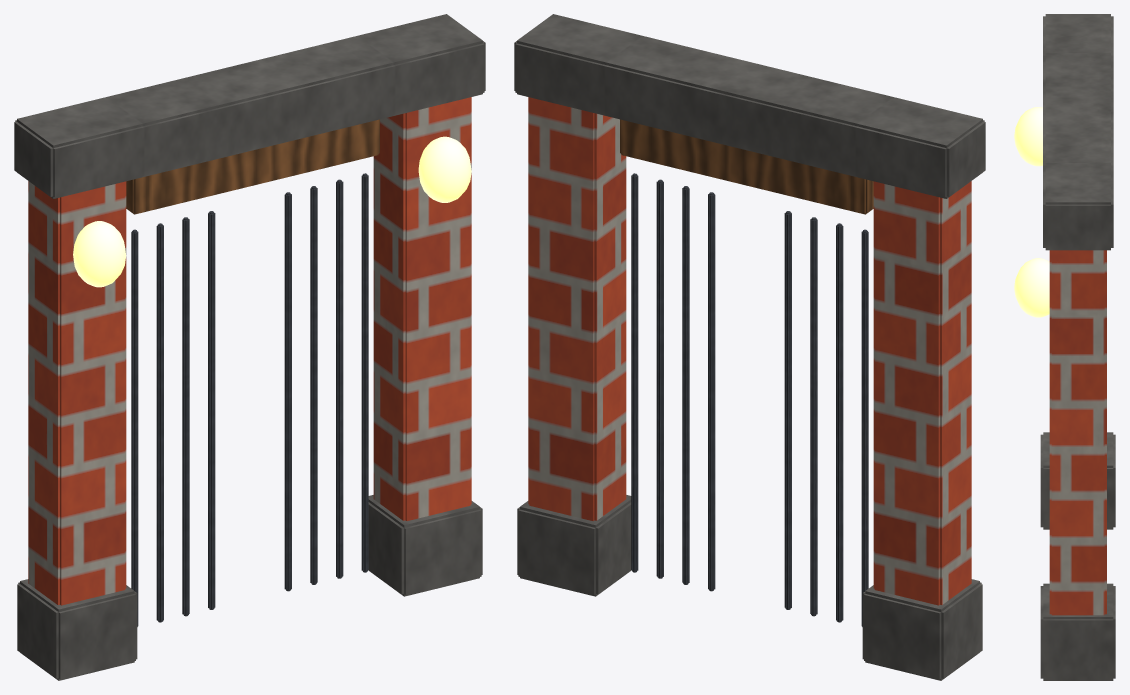
Rendered from wall_arch_gate.glb.
3 renders of one model, left to right at view 1: azimuth 30°, elevation 25°; view 2: azimuth 150°, elevation 25°; view 3: azimuth 270°, elevation 25°, orthographic. The views are drawn at different scales.
Visible parts, largest first — view 1: wall_arch_gate; view 2: wall_arch_gate; view 3: wall_arch_gate.
Boxes of the visible parts, left/top/right/bottom form: wall_arch_gate: left=14, top=14, right=485, bottom=680; wall_arch_gate: left=514, top=14, right=985, bottom=680; wall_arch_gate: left=1014, top=14, right=1115, bottom=680.
Bounding box in the file's own units: 2.04 × 2.4 × 0.46.
5 materials, 4 textured.
